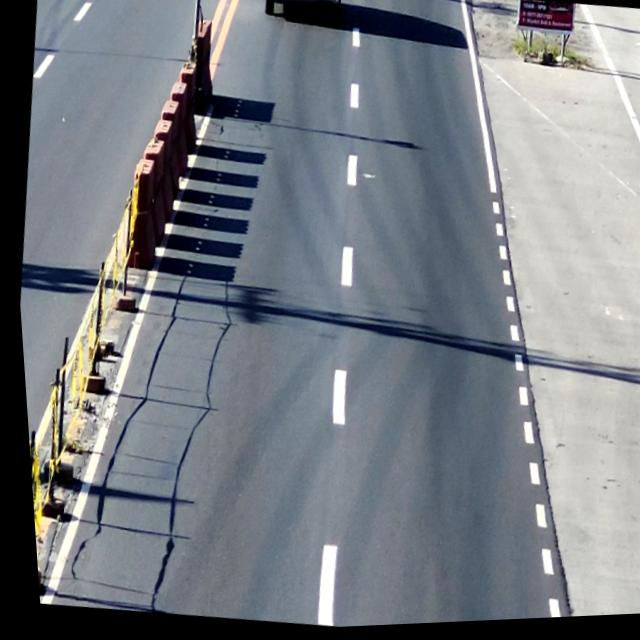Car: (258, 0, 347, 36)
